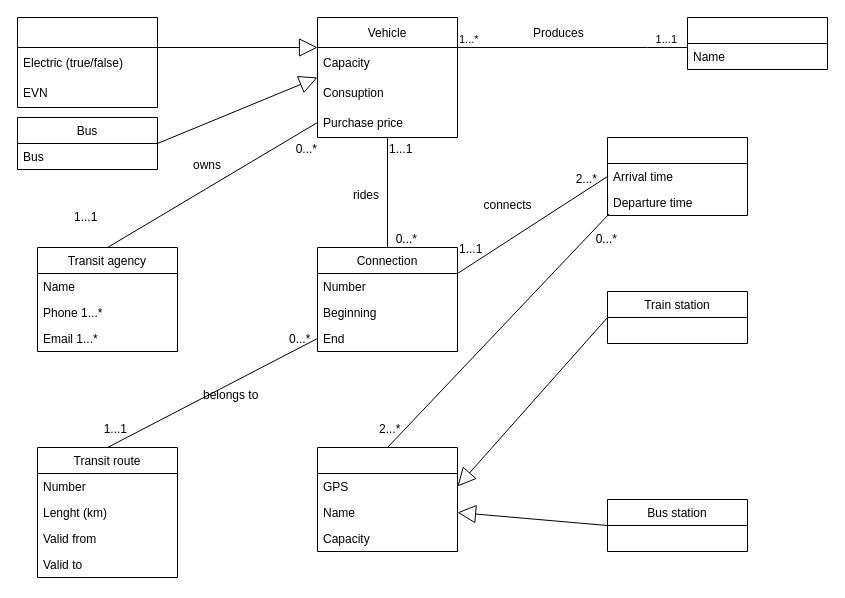
Some shapes in this 845 by 598 pixel diagram are drawn without their labels. Each missing label, with the box of its shape:
Producer: (686, 16, 828, 70)
Station: (316, 446, 458, 552)
Stop: (606, 136, 748, 216)
Train: (16, 16, 158, 108)
